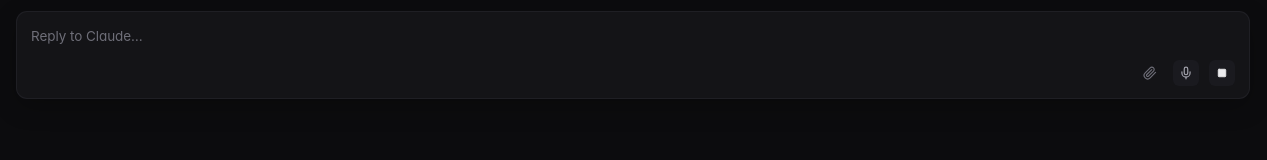
Scenario: Composer in transcript view › queues a message sent mid-turn, then sends it when the turn ends
The width and height of the screenshot is (1267, 160).
Type "Also handle deep links" into the text box at (633, 37), box [31, 24, 1235, 50]
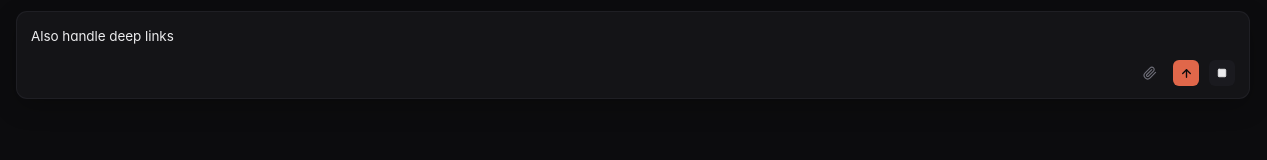
Press Enter in the text box, box [31, 24, 1235, 50]
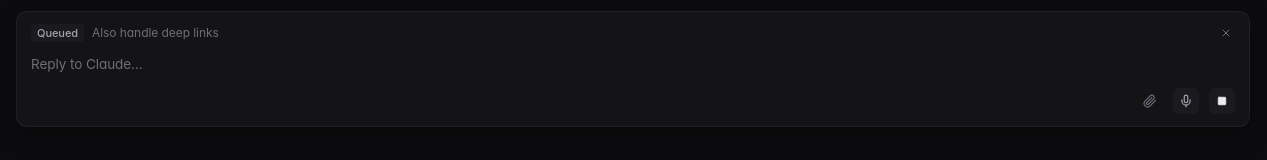
Expected: the message named "Queued message" reads "Queued Also handle deep links", [31, 24, 1235, 42]
Expected: the text box is empty
Type "and the tests" into the text box at (633, 65), box [31, 52, 1235, 78]
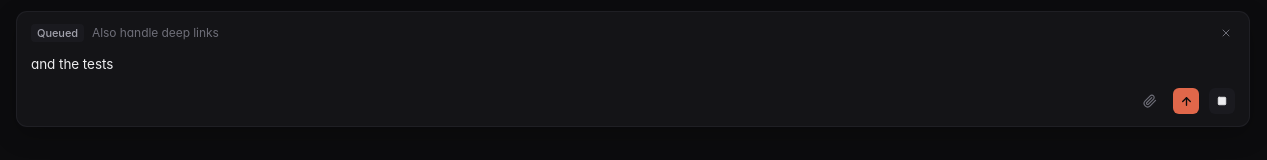
Press Enter in the text box, box [31, 52, 1235, 78]
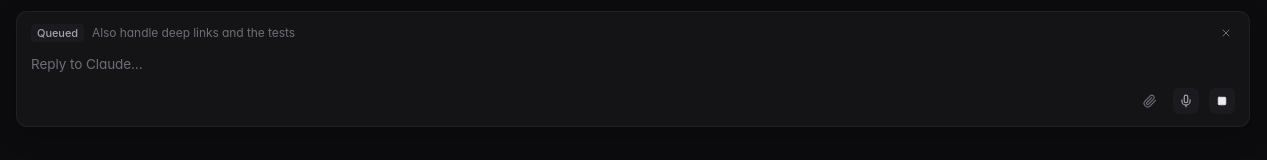
Expected: the message named "Queued message" shows "Also handle deep links and the tests", [92, 25, 295, 40]
